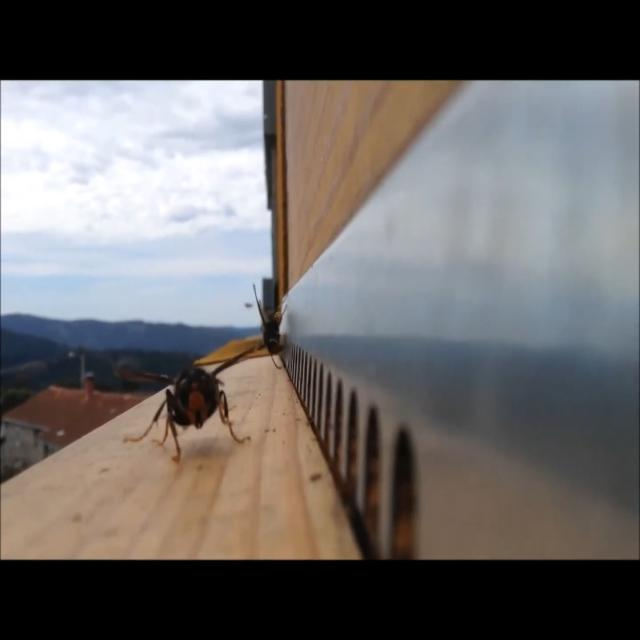Hornets: (119, 345, 258, 465), (251, 283, 291, 371)
